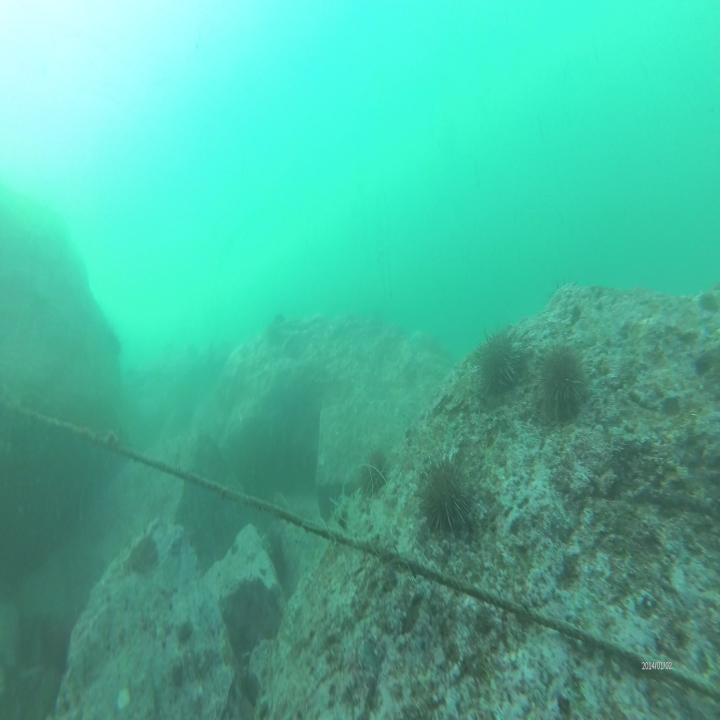echinus: (419, 451, 476, 539), (534, 344, 590, 426), (476, 326, 526, 400), (361, 447, 389, 496)
